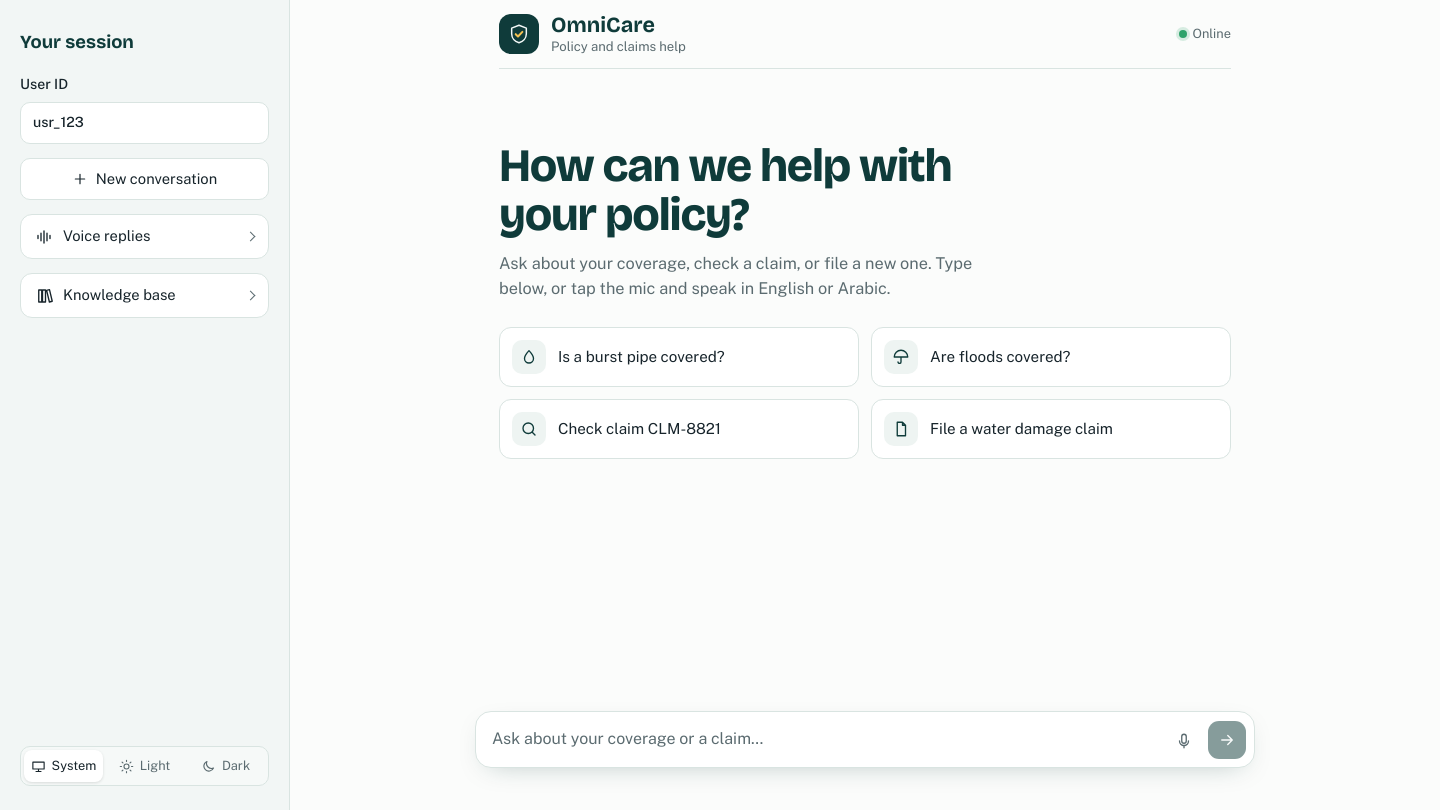
Scenario: cancelling a recording sends nothing
The width and height of the screenshot is (1440, 810).
What coordinates should you click on to do the following:
click the button named "Ask by voice"
I would click on:
 (1184, 741)
Its box is left=1166, top=723, right=1202, bottom=759.
(page scrolled)
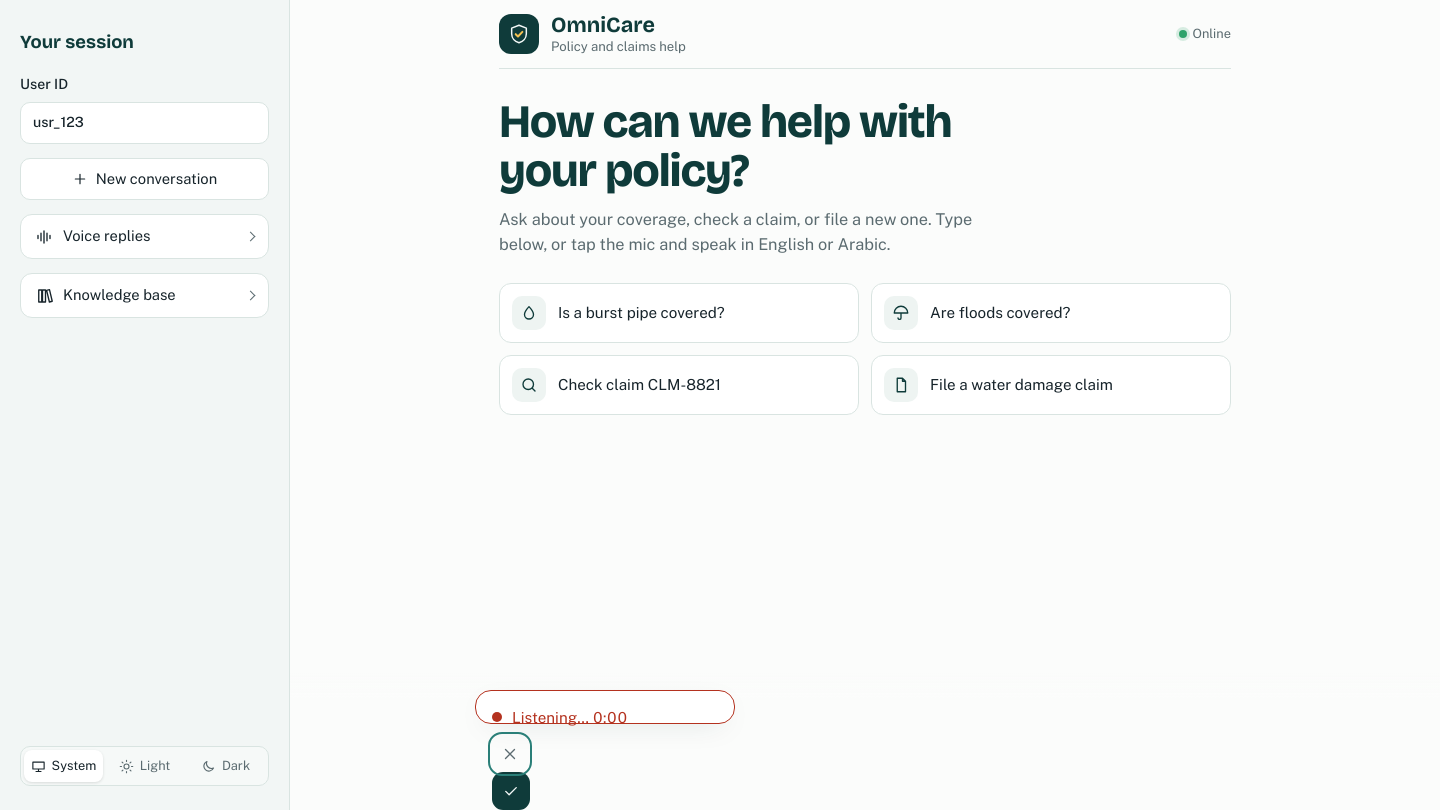
What coordinates should you click on to do the following:
click the button named "Cancel recording"
I would click on:
 (510, 754)
Its box is left=492, top=736, right=528, bottom=772.
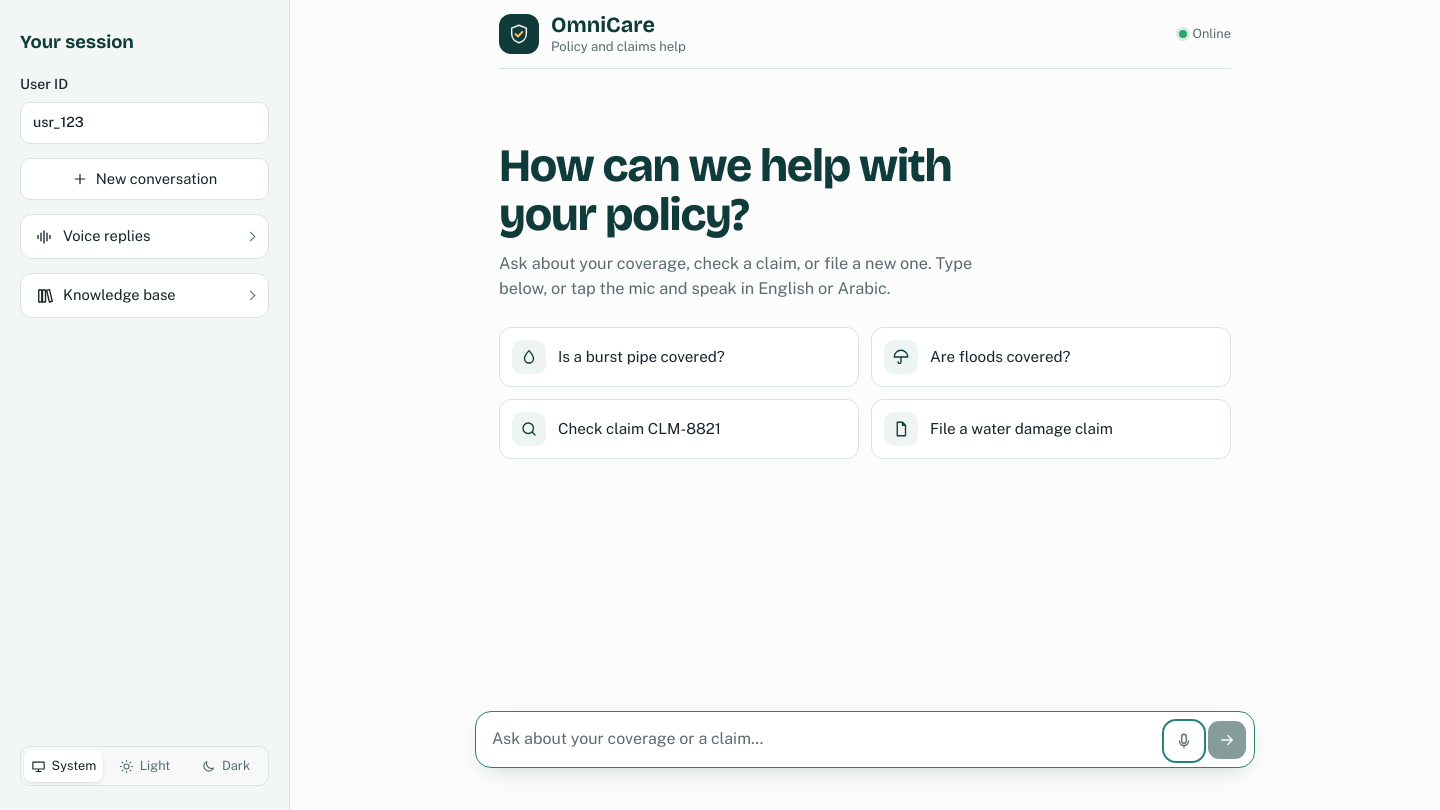
Expected: the text box with test id "composer-input" is shown, left=492, top=720, right=1160, bottom=759
